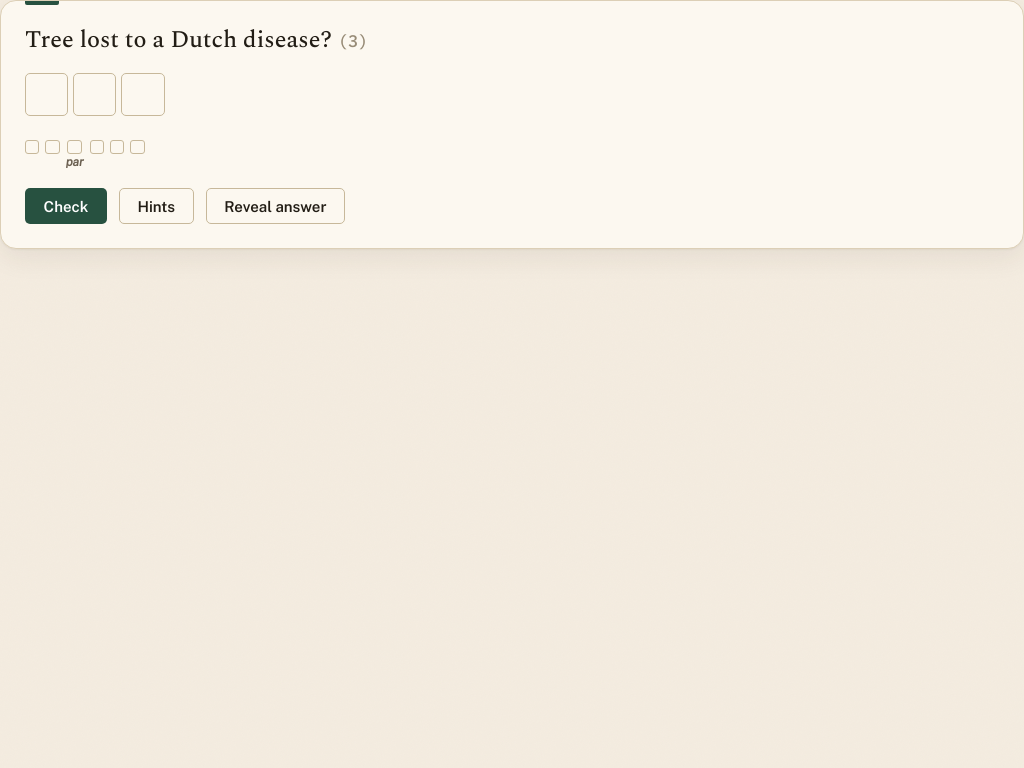
Scenario: DailyClueCard › showing a letter fills the first wrong cell, locks it, and costs 1
The width and height of the screenshot is (1024, 768).
Click the button "Hints" at (156, 206), box [119,188,194,224]
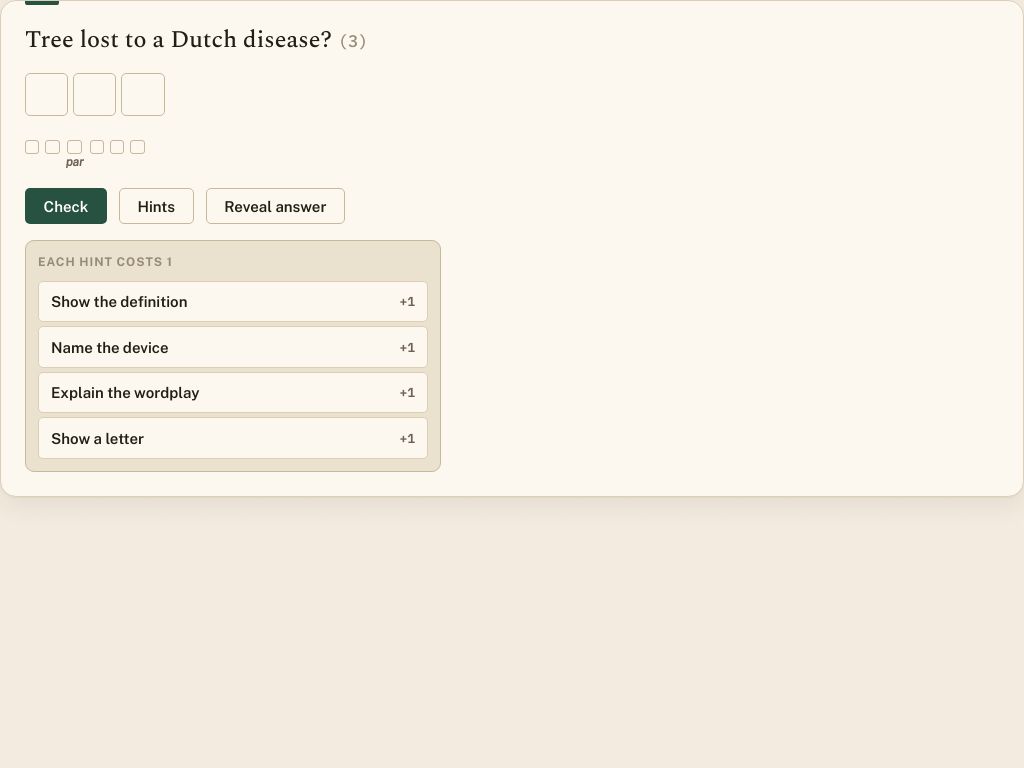
Click the button "Show a letter +1" at (98, 438), box [38,417,428,459]
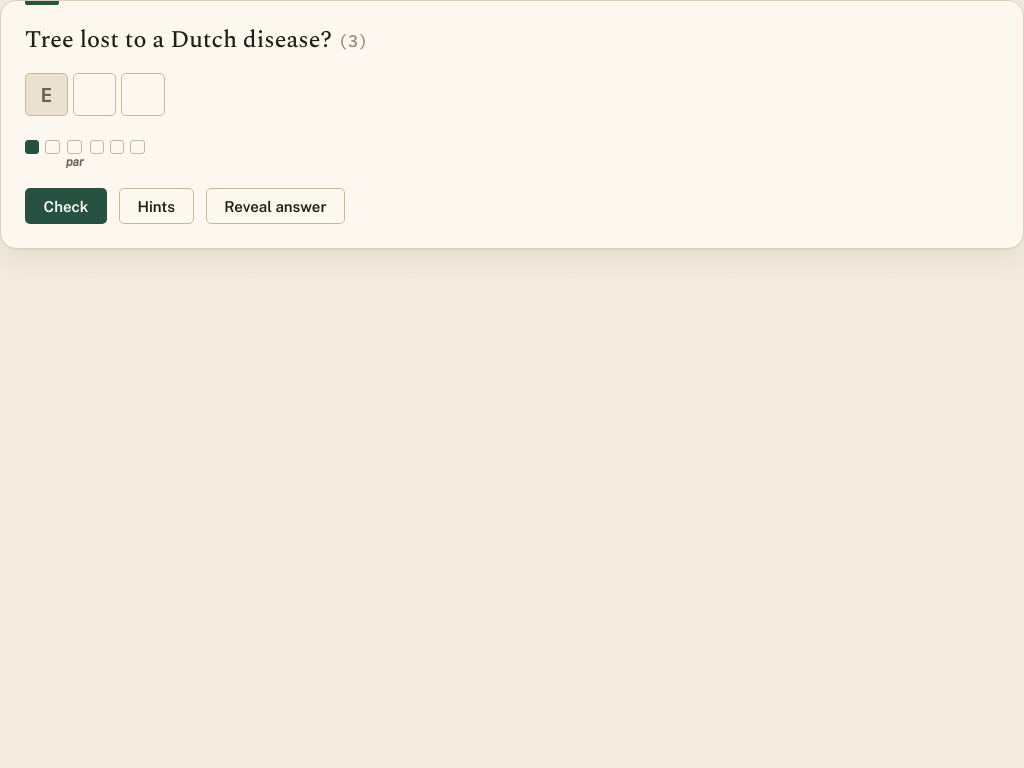
Result: the field named "Letter 1" holds "E" at [25,73,68,116]
Result: the field named "Letter 1" is disabled at [25,73,68,116]
